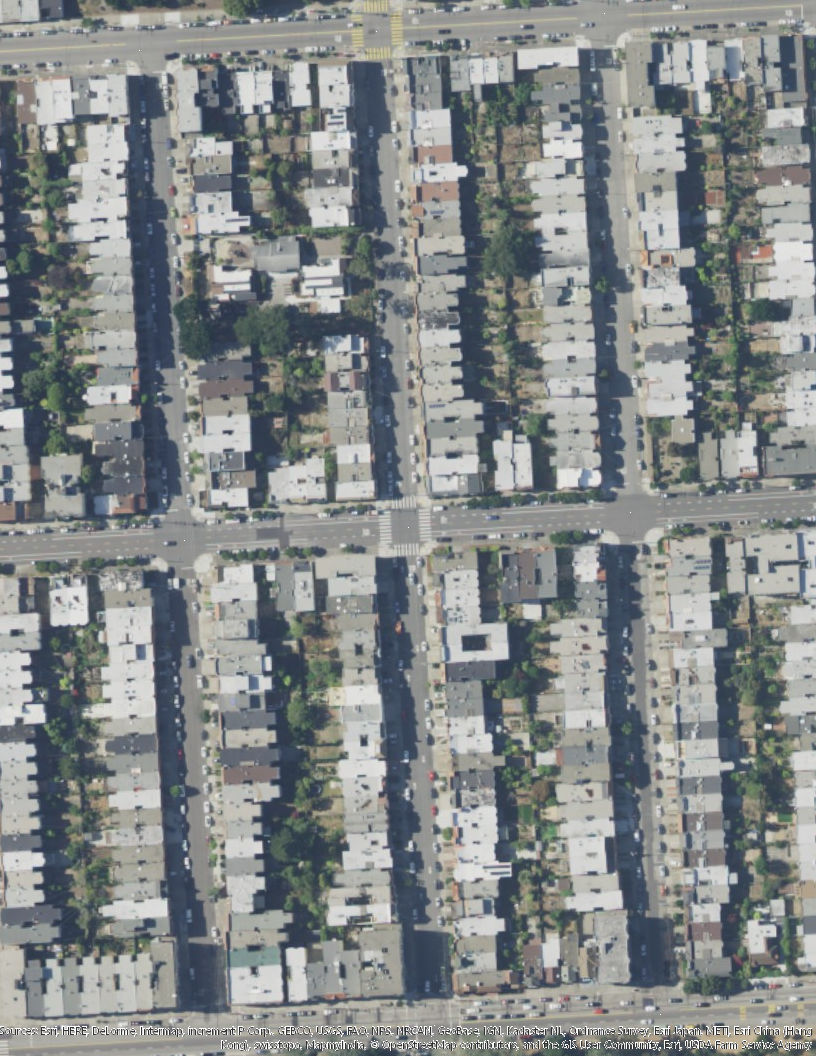zebracross: (349, 12, 364, 48), (377, 512, 393, 543), (390, 11, 404, 46), (418, 510, 432, 542), (364, 47, 392, 61), (395, 543, 422, 557), (392, 496, 416, 510), (364, 1, 390, 13)
